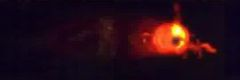keyhole: (170, 34, 183, 48)
